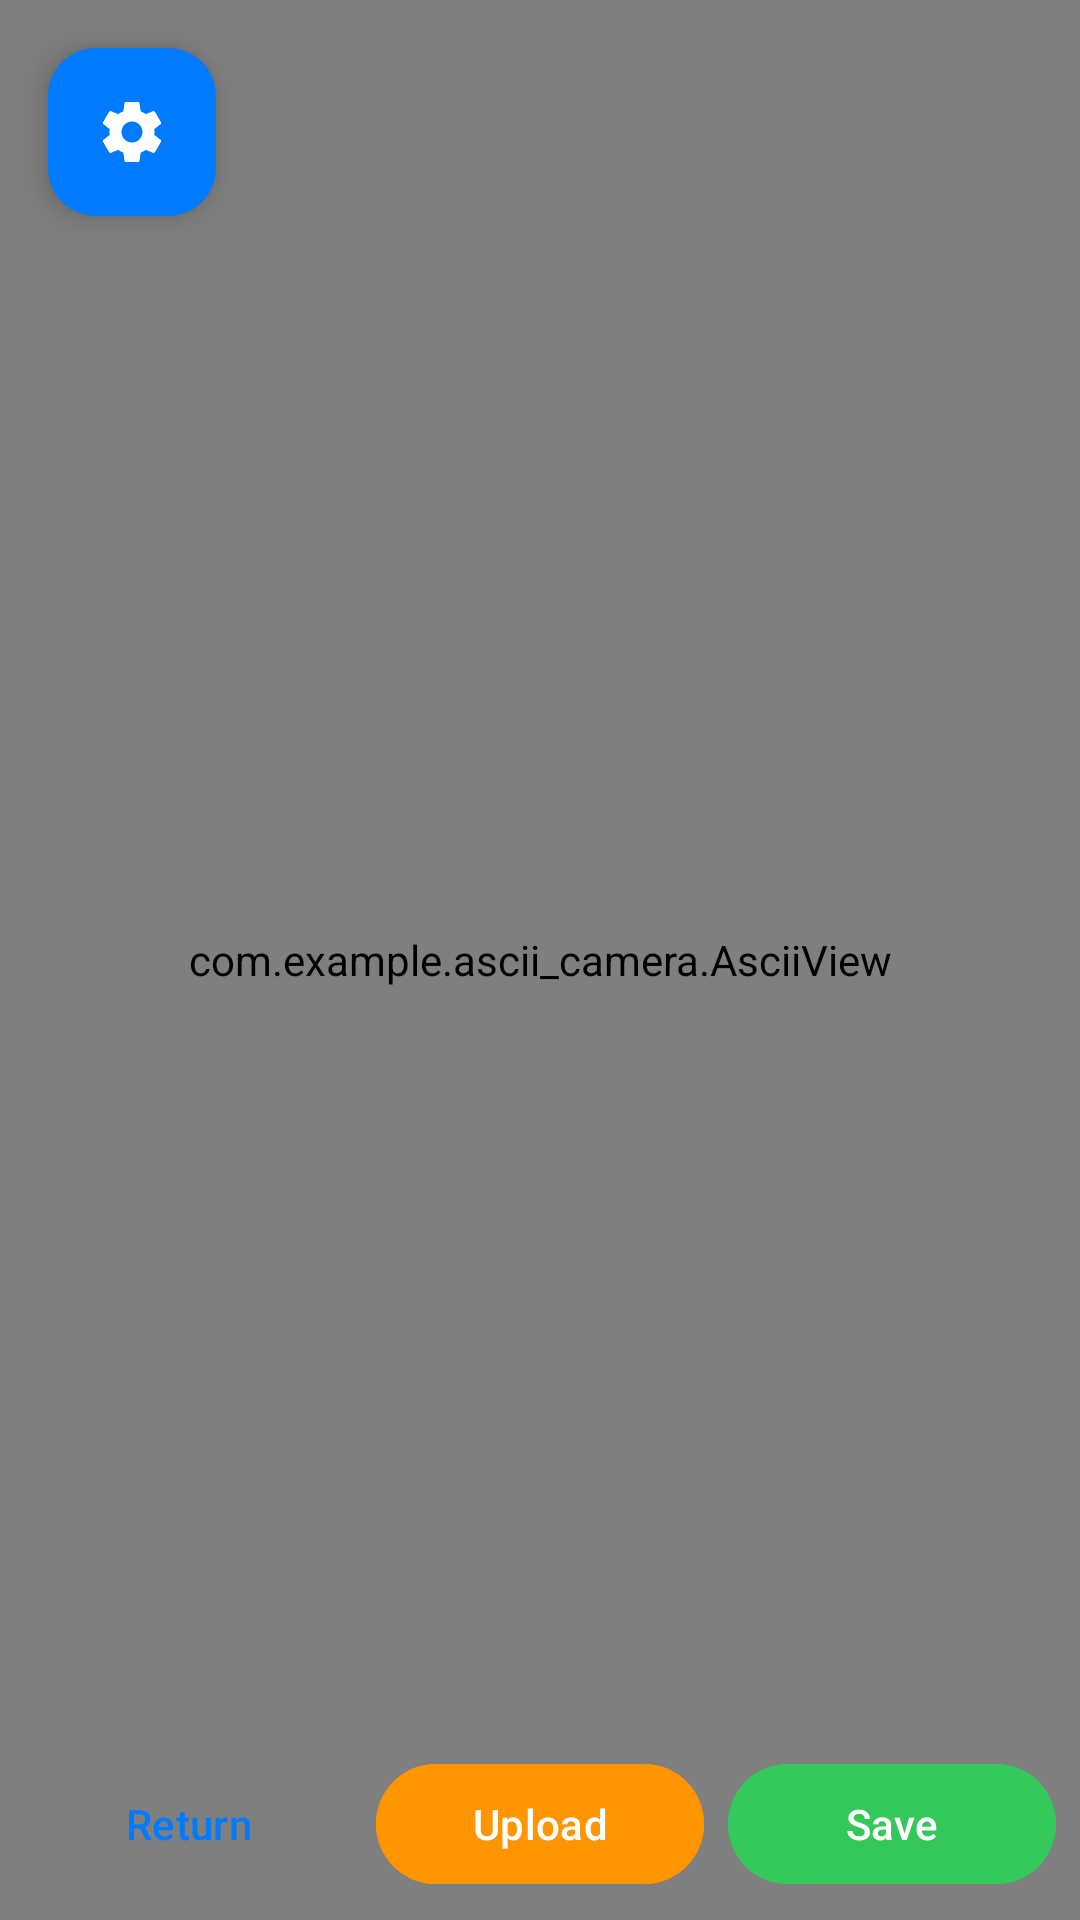

Point at icon controls on the screen. Image size 1080w x 1920h, points as (x=x, y=y).
settings: (x=132, y=132)
